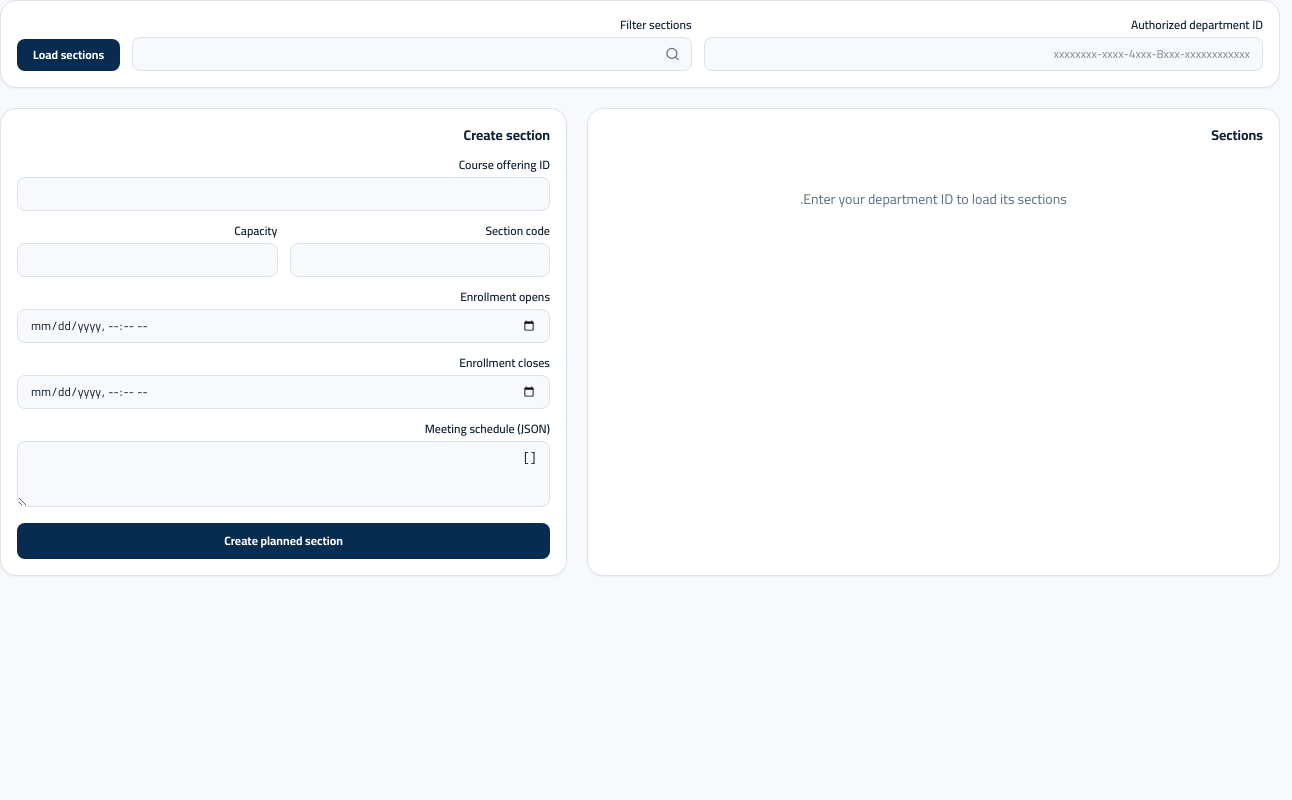
Test: AdminAcademicOperationsPage › surfaces section creation errors when no section is selected
The width and height of the screenshot is (1292, 800).
Type "aaaaaaaa-aaaa-4aaa-8aaa-aaaaaaaaaaaa" into the field labelled "Authorized department ID" at (983, 54), box [704,37,1263,71]
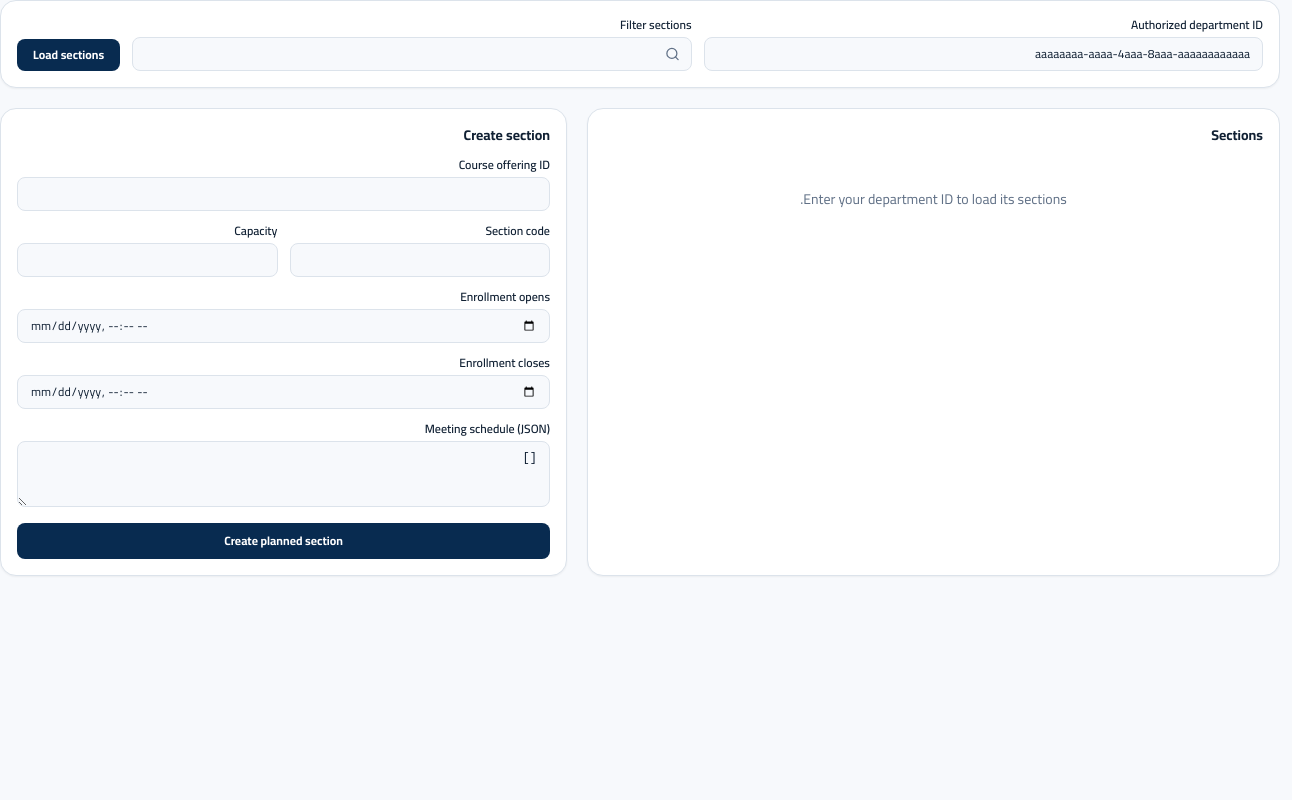
Click the button "Load sections" at (69, 55), box [17,39,120,71]
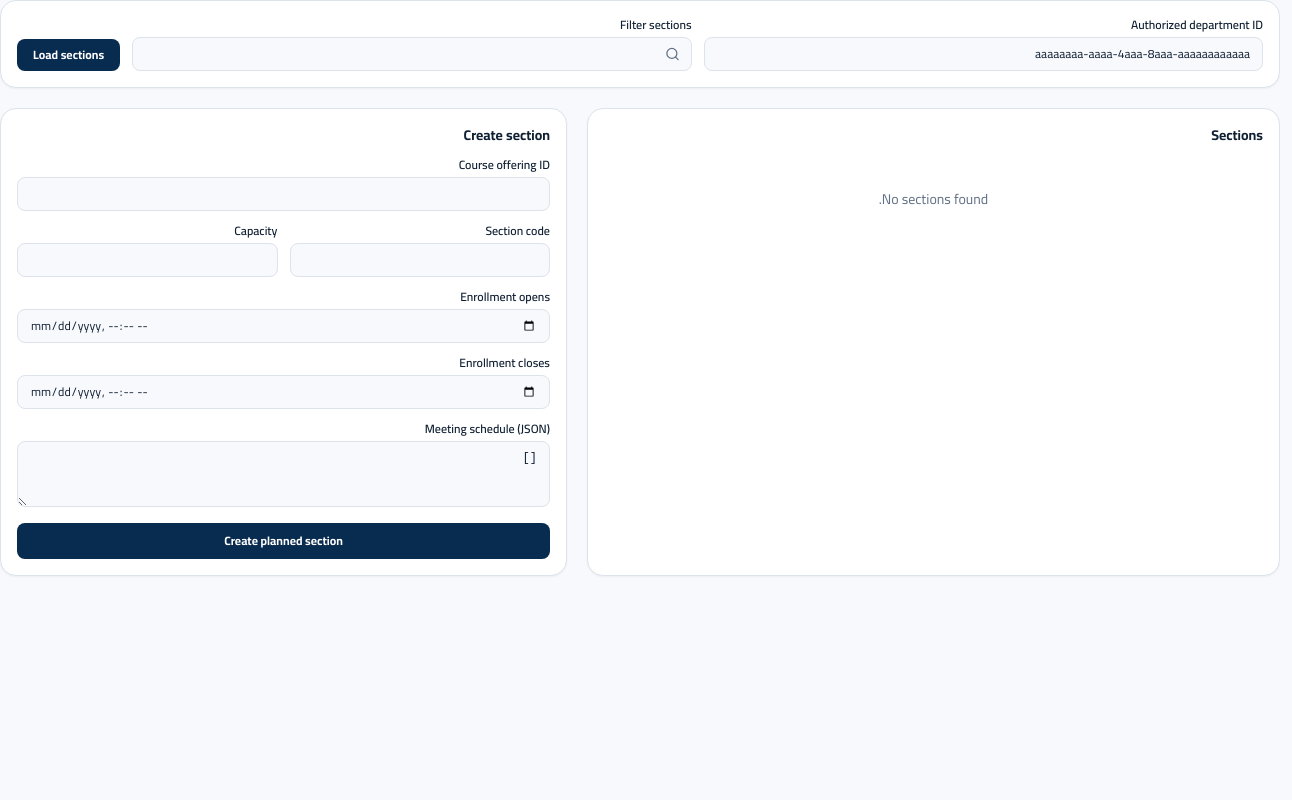
Type "bbbbbbbb-bbbb-4bbb-8bbb-bbbbbbbbbbbb" into the field labelled "Course offering ID" at (284, 194), box [17,177,550,211]
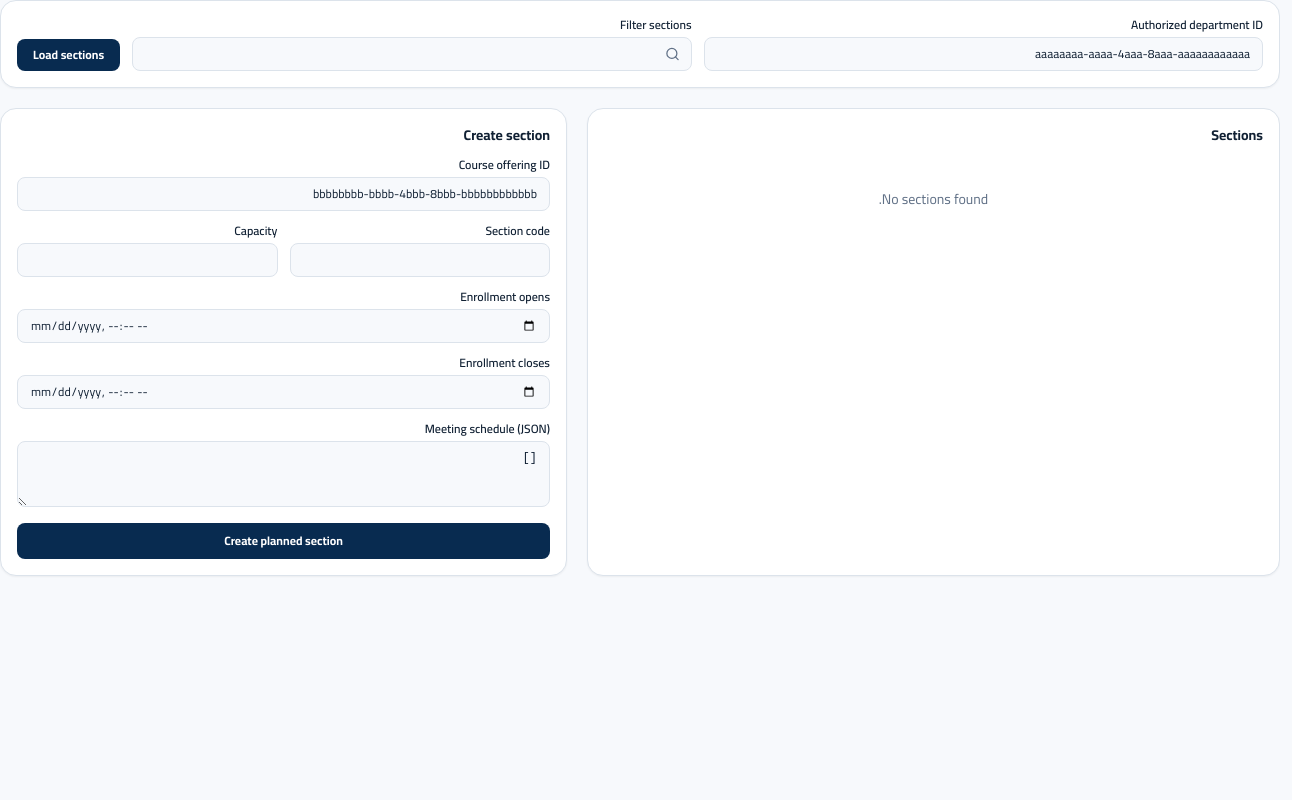
Type "SEC-1" into the field labelled "Section code" at (420, 260), box [290,243,550,277]
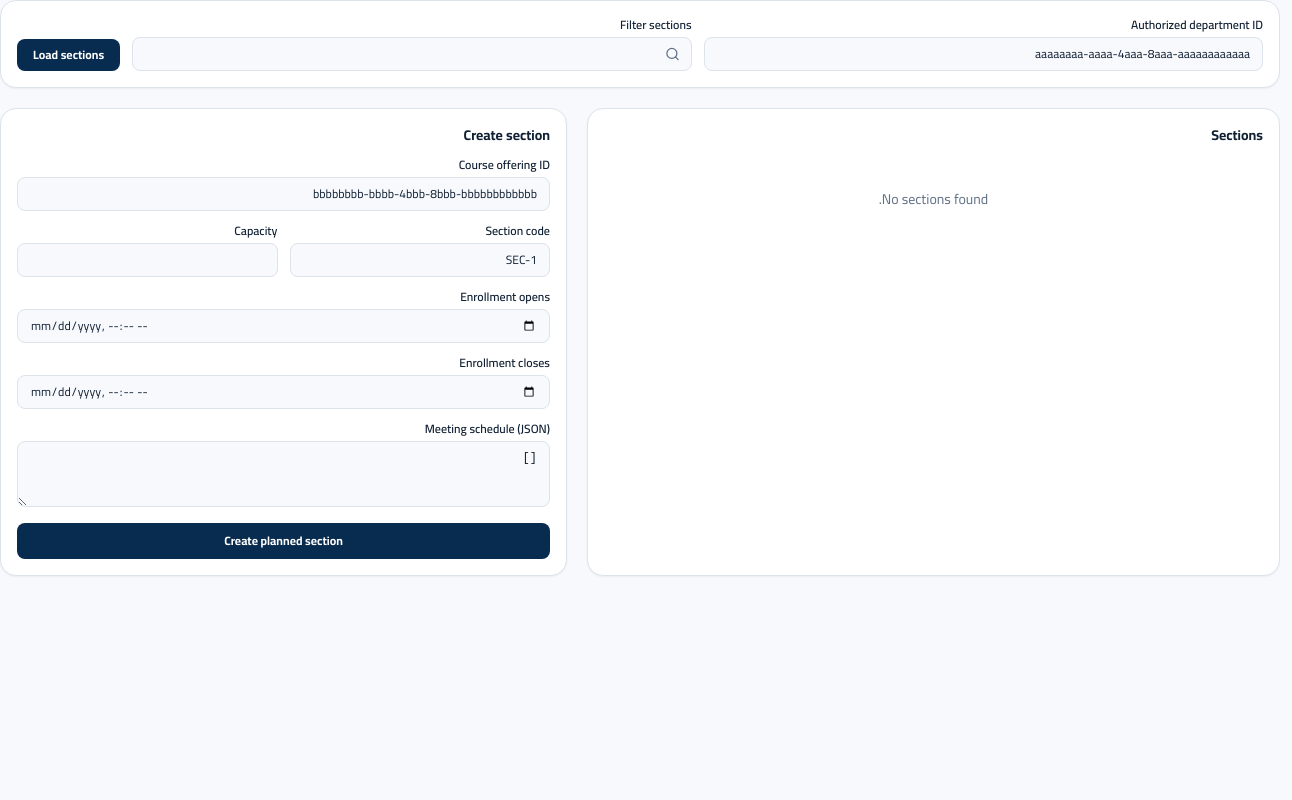
Type "10" into the number field labelled "Capacity" at (147, 260), box [17,243,278,277]
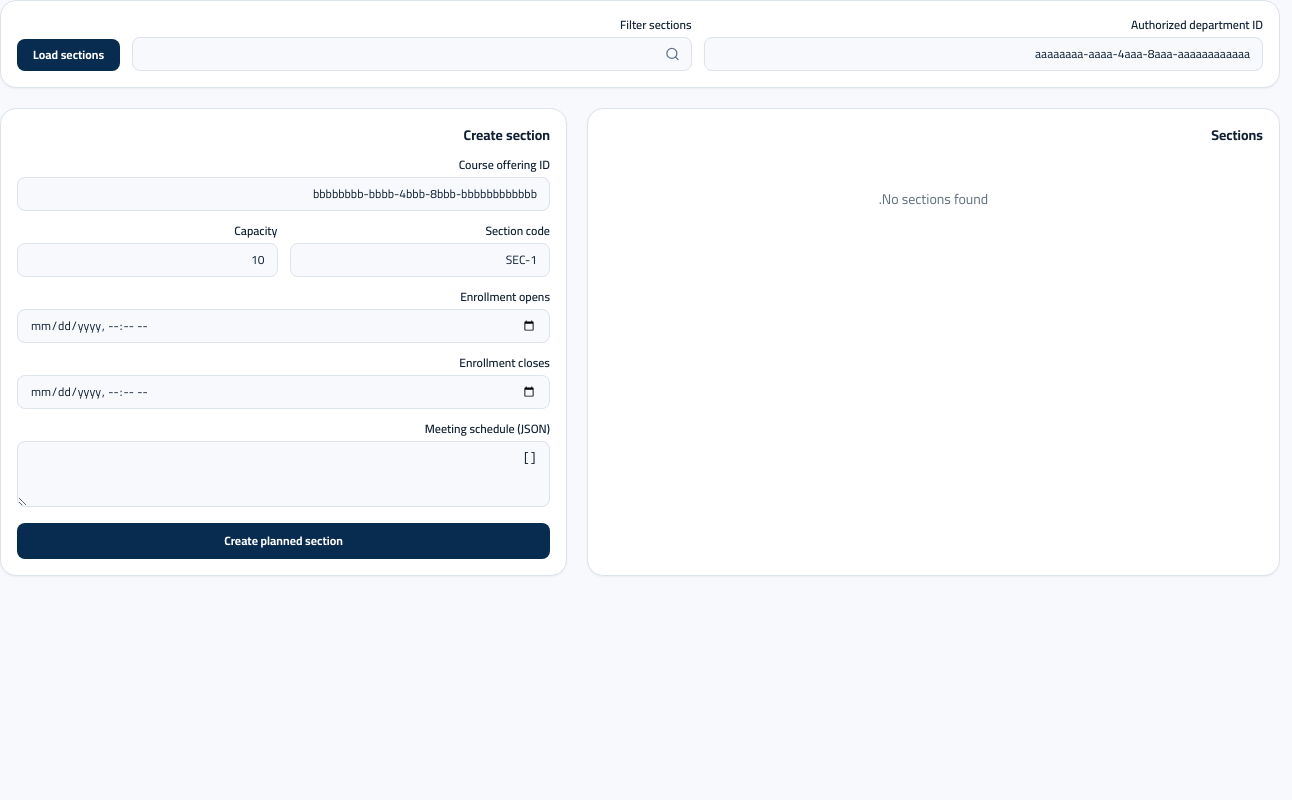
Click the button "Create planned section" at (284, 541), box [17,523,550,559]
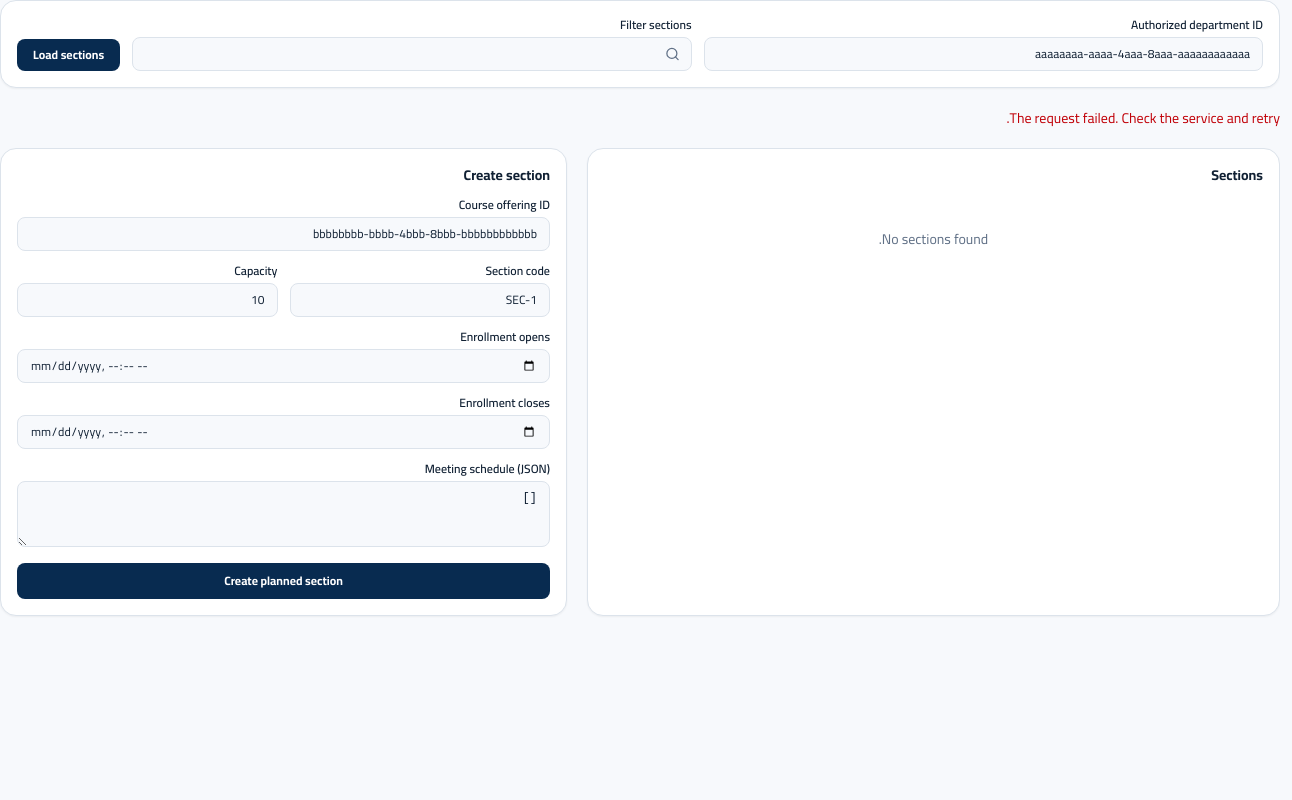
Check: the message reads "The request failed. Check the service and retry.", box [1006,105,1280,131]
